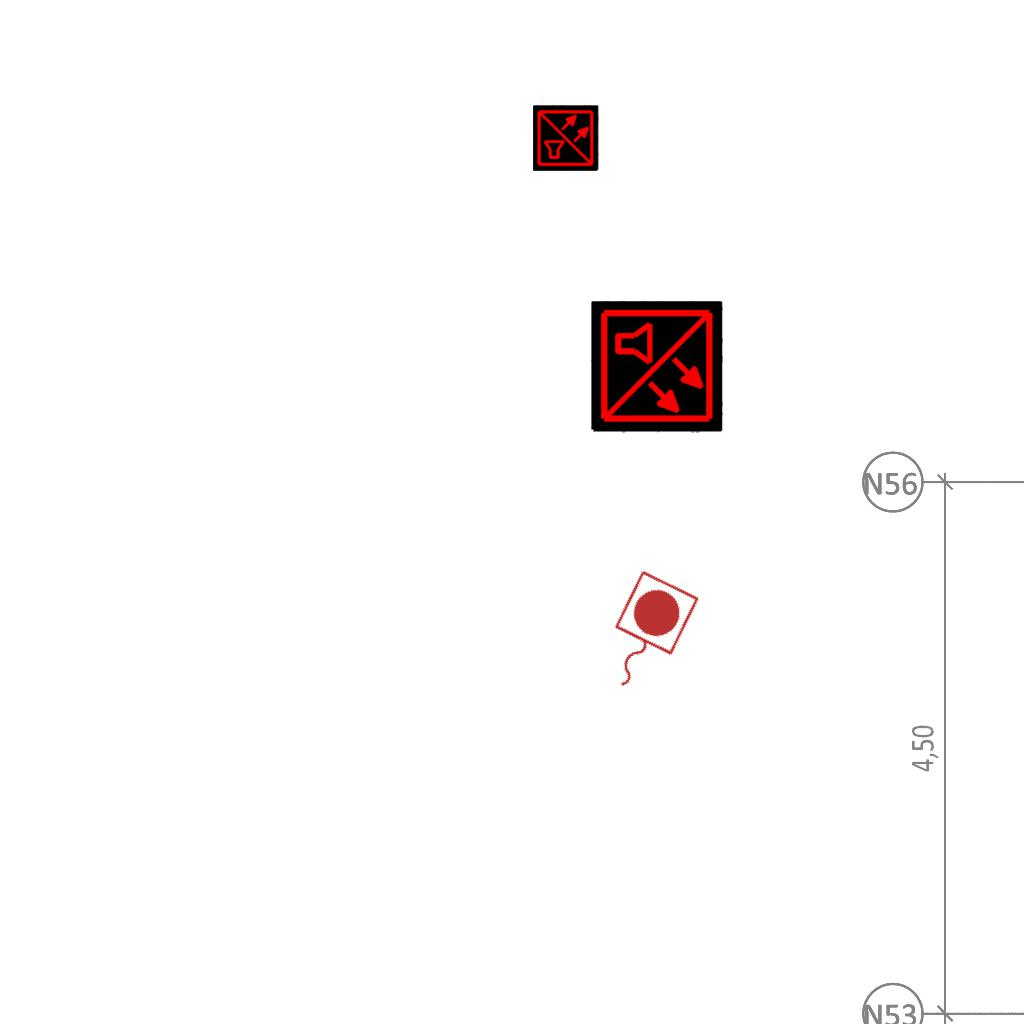OKW_Multisensormelder_(Kombination_optischer_Rauch-Kahlenmonoxid_Waerme-Melder): (591, 301, 723, 433), (533, 105, 599, 171)
Zugtaster: (585, 564, 705, 706)
